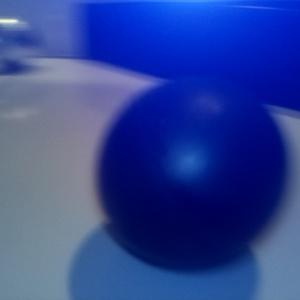alive_ball: (1, 16, 42, 64)
dead_ball: (99, 79, 288, 270)
